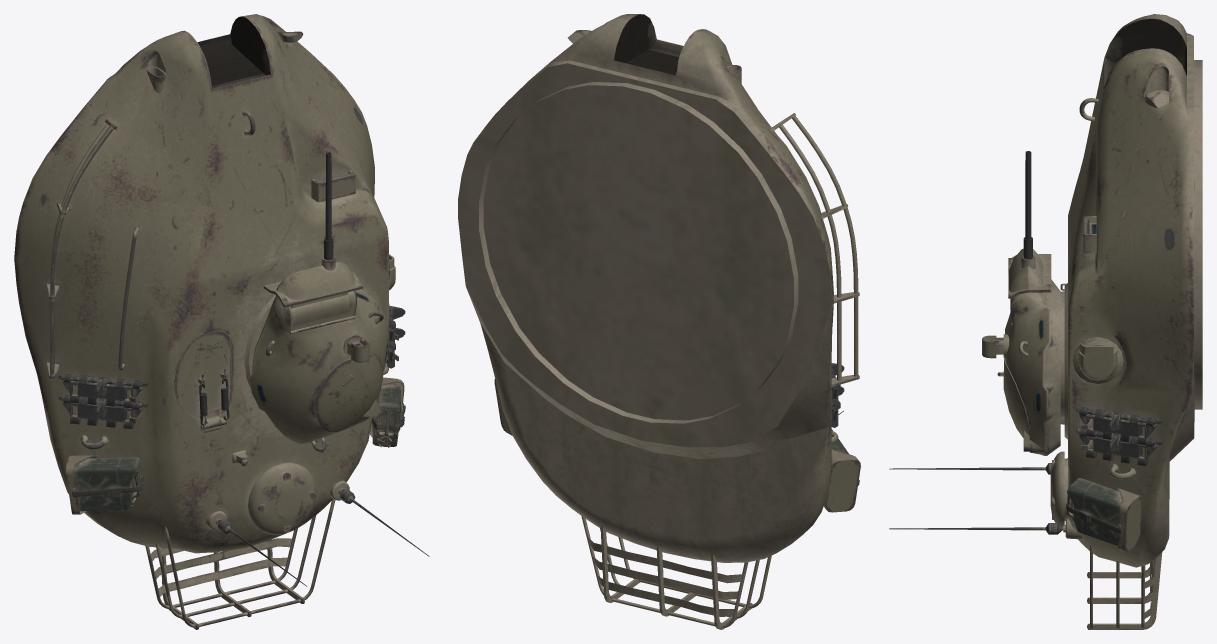
Rendered from Turret_01.glb.
3 renders of one model, left to right at view 1: azimuth 30°, elevation 25°; view 2: azimuth 150°, elevation 25°; view 3: azimuth 270°, elevation 25°, orthographic. The views are drawn at different scales.
Visible parts, largest first — view 1: set_0_group_0; view 2: set_0_group_0; view 3: set_0_group_0.
Part boxes in pixels (bbox=[...]): set_0_group_0: bbox=[14, 14, 429, 629]; set_0_group_0: bbox=[458, 14, 860, 629]; set_0_group_0: bbox=[889, 14, 1202, 629].
Bounding box in the file's own units: 2.84 × 4.31 × 2.15.
1 material, 1 textured.
